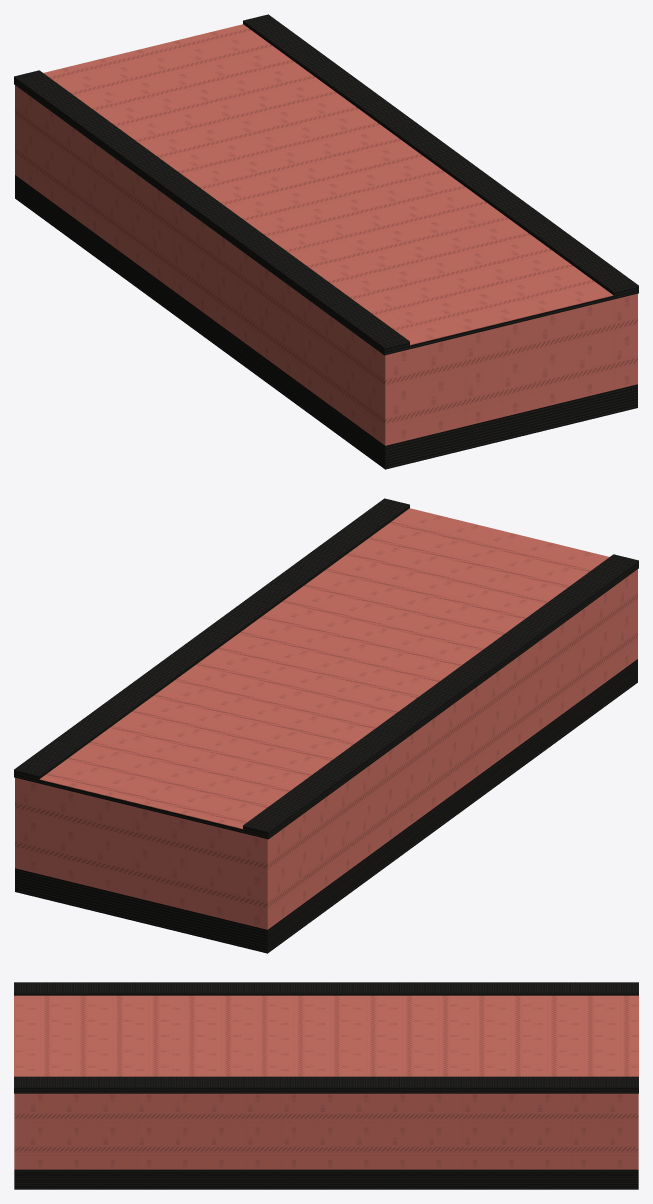
The model's file is floor1.glb.
The picture shows the model from 3 angles, top to bottom: view 1: azimuth 30°, elevation 25°; view 2: azimuth 150°, elevation 25°; view 3: azimuth 270°, elevation 25°; orthographic projection. The views are drawn at different scales.
Parts seen in each view (by area): view 1: mergedBlocks(Clone); view 2: mergedBlocks(Clone); view 3: mergedBlocks(Clone).
Part boxes in pixels (x1,y1,x2,y2): mergedBlocks(Clone): (14, 14, 638, 469); mergedBlocks(Clone): (14, 498, 638, 953); mergedBlocks(Clone): (14, 982, 638, 1189).
Size of the model in its own units: 6.84 by 3.14 by 17.25.
2 materials, 2 textured.
